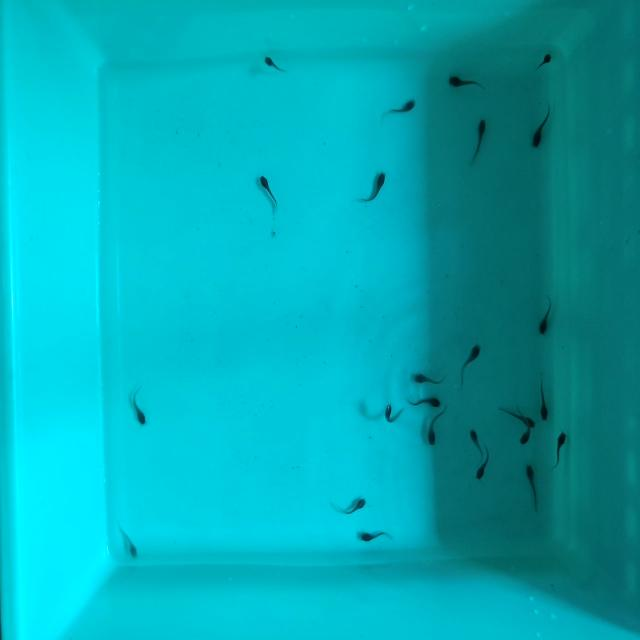lele: (357, 167, 392, 212), (454, 338, 486, 386), (529, 103, 556, 156), (466, 116, 491, 169), (472, 440, 496, 489), (522, 455, 541, 515), (116, 518, 143, 560), (423, 403, 448, 448), (128, 385, 154, 427), (257, 170, 284, 209), (549, 428, 571, 473), (497, 404, 535, 430), (335, 493, 369, 520), (448, 71, 488, 92), (386, 95, 417, 121), (466, 424, 488, 459), (260, 52, 290, 77), (410, 369, 447, 388), (536, 301, 554, 340), (516, 405, 532, 444), (537, 373, 549, 425), (405, 396, 442, 410), (384, 402, 404, 426), (535, 50, 556, 72), (361, 530, 394, 543)
